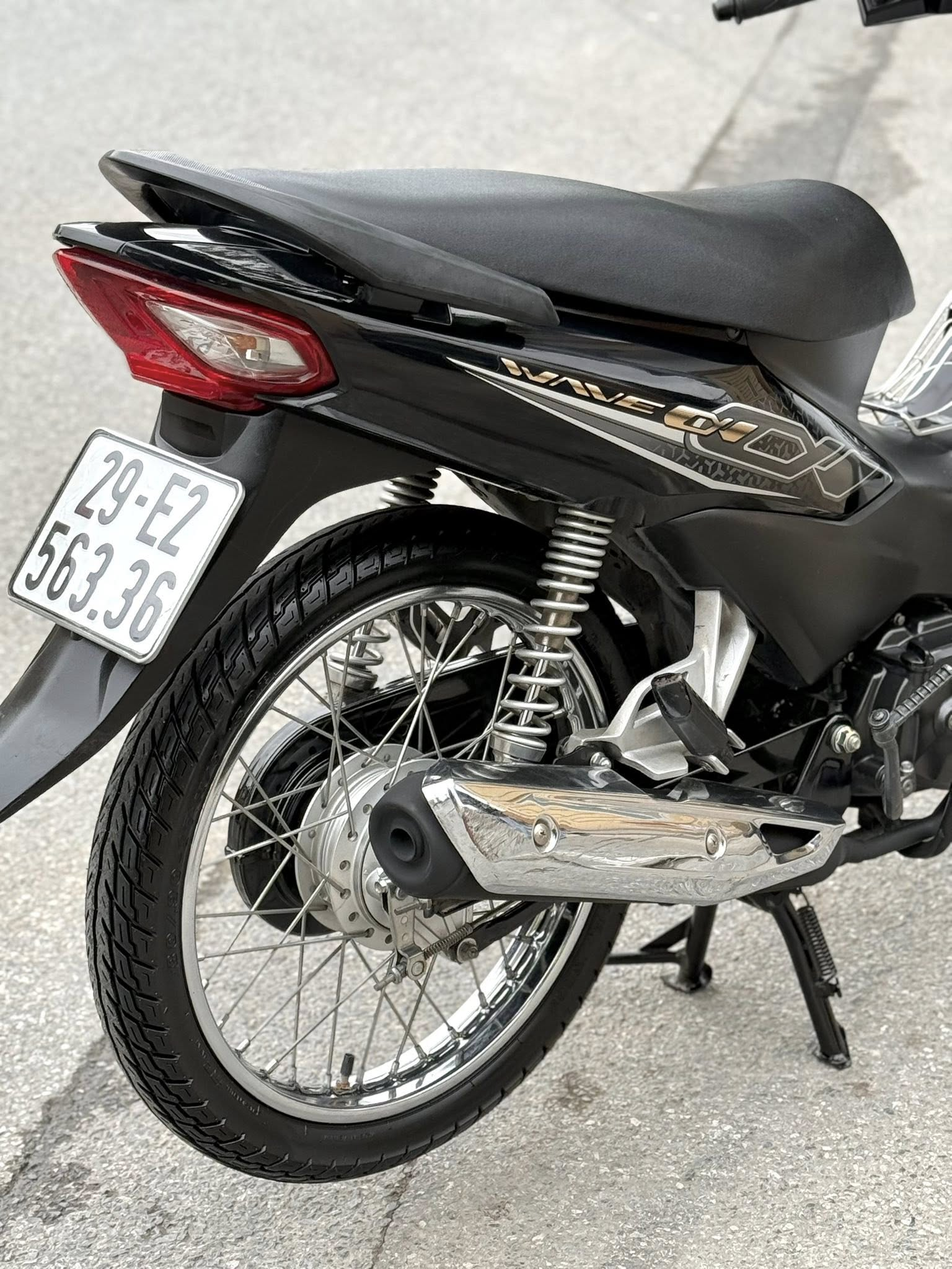bien_so: (4, 418, 253, 672)
